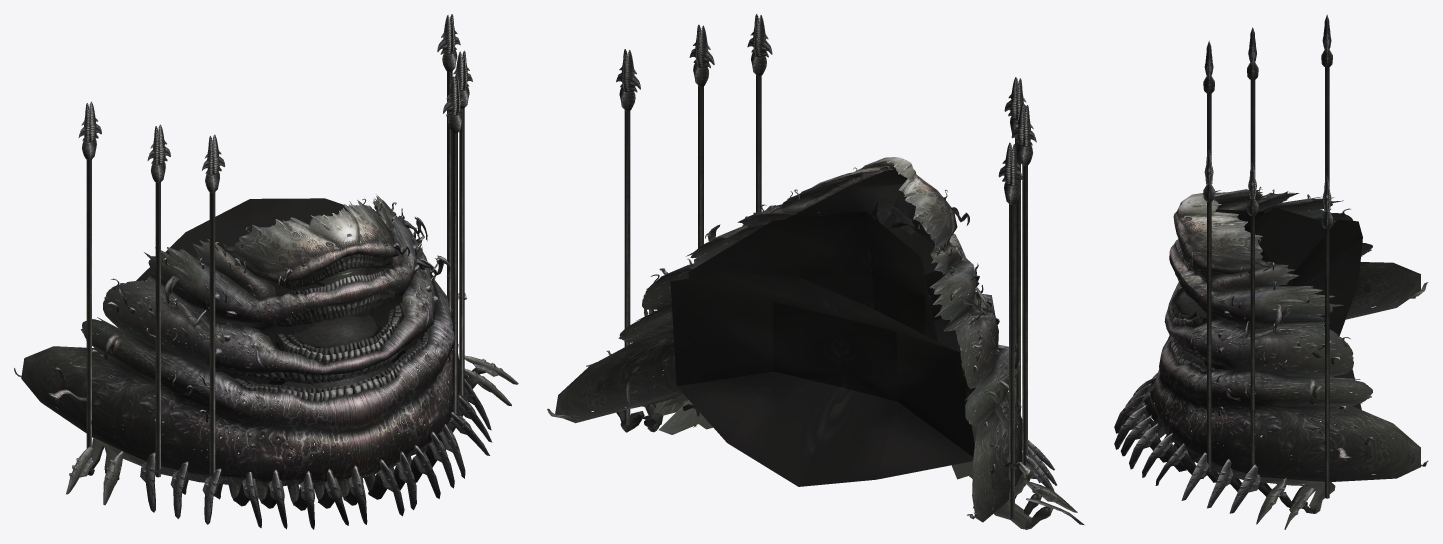
File: bbg009_anmi.glb
3 views of the same model, side by side, from view 1: azimuth 30°, elevation 25°; view 2: azimuth 150°, elevation 25°; view 3: azimuth 270°, elevation 25° (orthographic). The views are drawn at different scales.
Visible parts, largest first — view 1: bbg009_anmi; view 2: bbg009_anmi; view 3: bbg009_anmi.
Part boxes in pixels (x1,y1,x2,y2): bbg009_anmi: (14, 14, 518, 529); bbg009_anmi: (547, 14, 1084, 529); bbg009_anmi: (1114, 14, 1428, 529).
Size of the model in its own units: 57.21 by 45.67 by 37.55.
9 materials, 9 textured.
